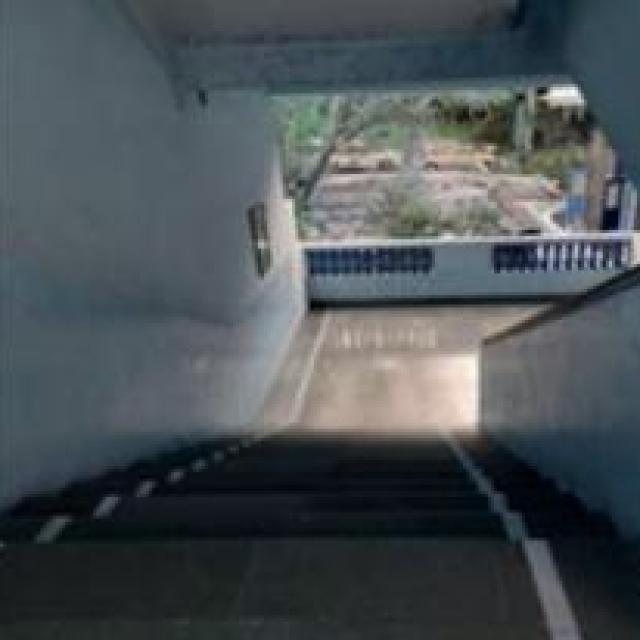downstair: (101, 405, 511, 600)
